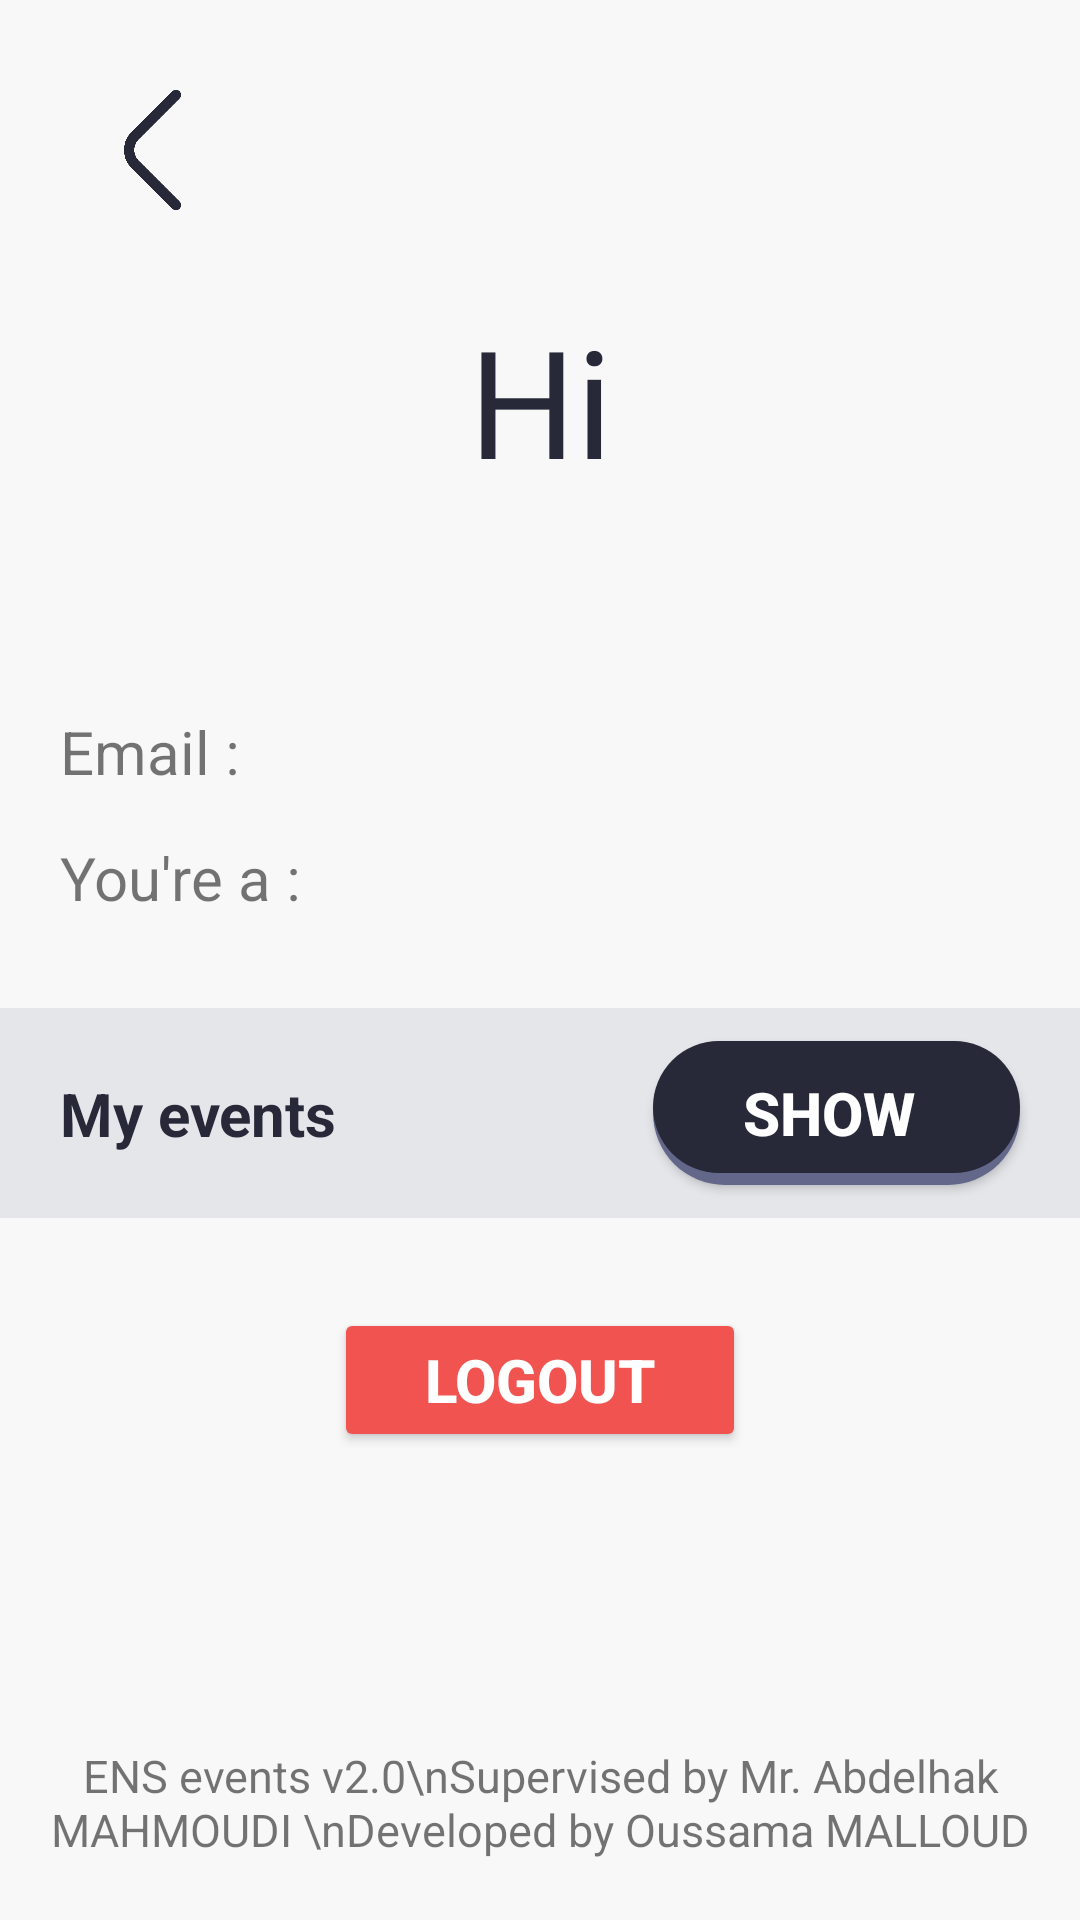

Where to tap for icons on this 1080px×1920px app screen, as (x,y):
back: (152,150)
